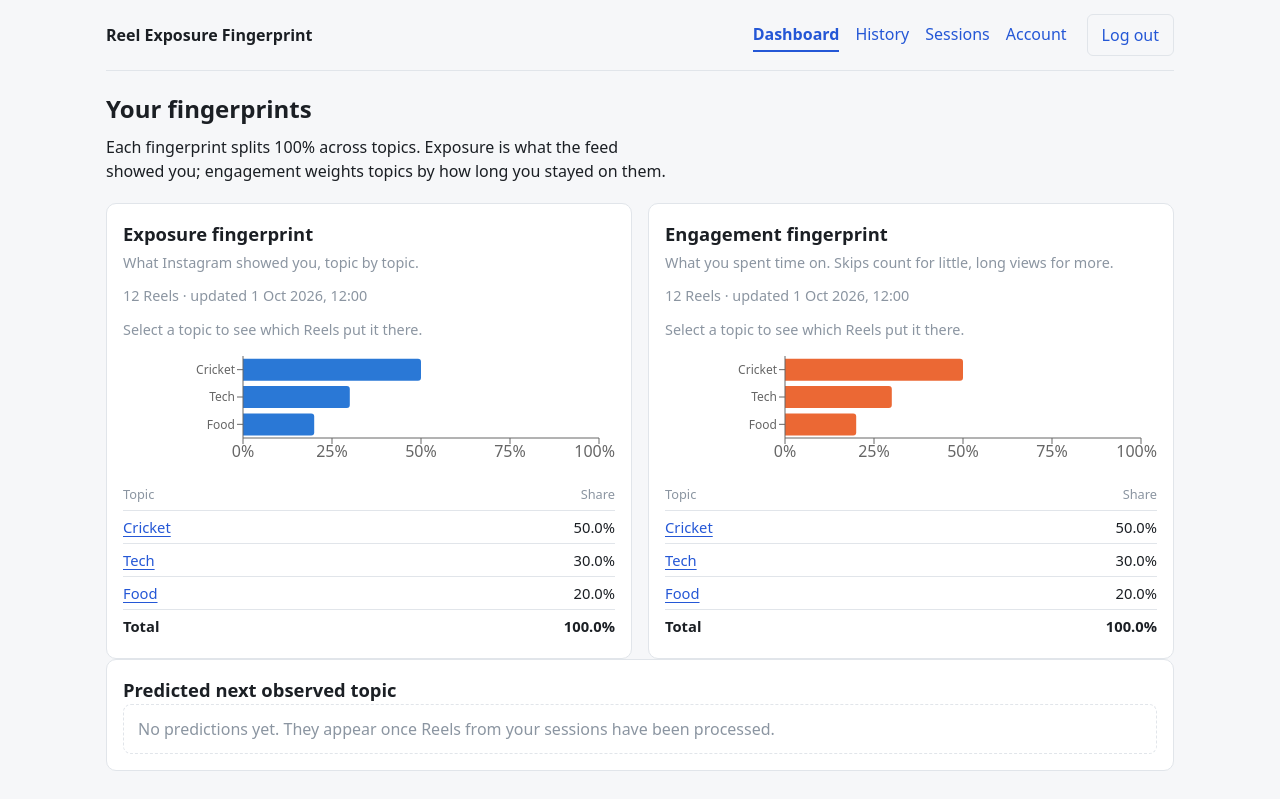
Test: topic evidence › pages with Next and Previous
Click the button with aria-label "Why Cricket?".
click(147, 527)  # box x1=123 y1=516 x2=171 y2=538
(page scrolled)
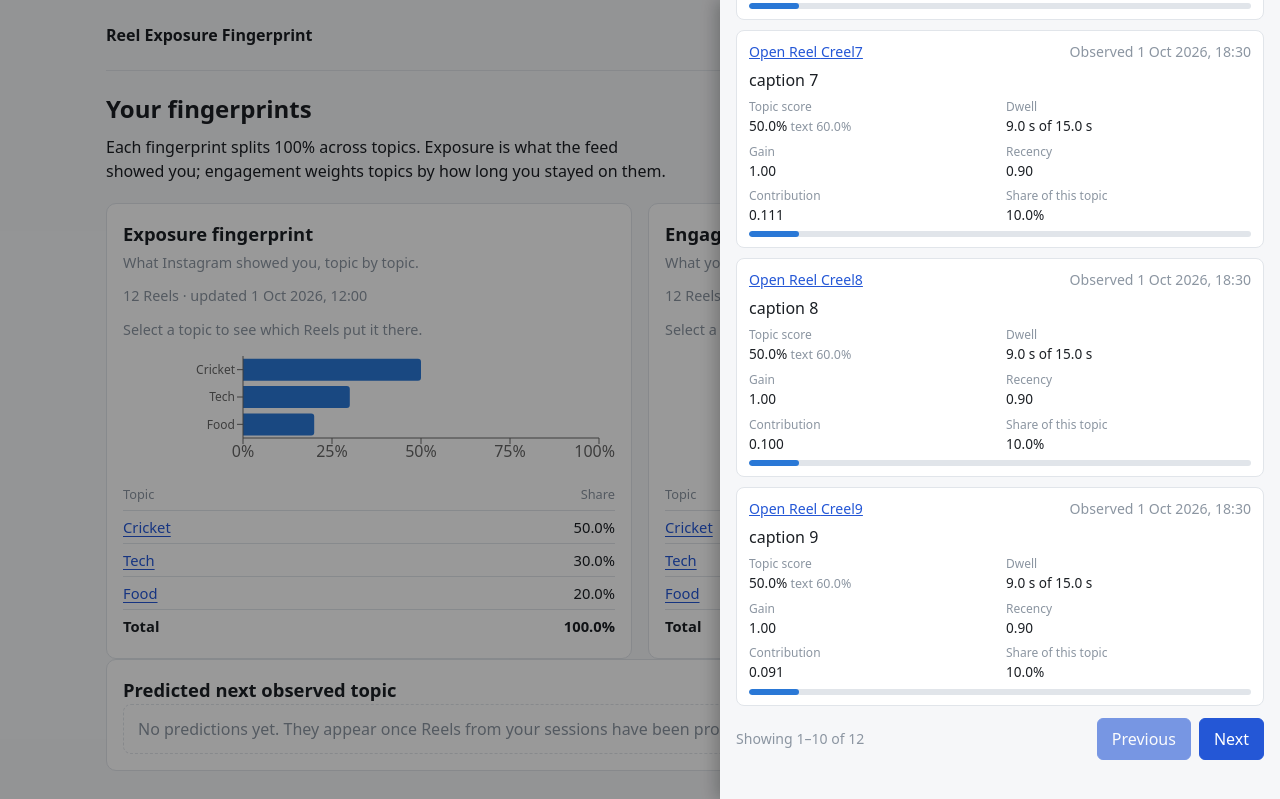
Expected: the text with test id "range" reads "Showing 1–10 of 12", x1=736 y1=729 x2=864 y2=748
Click the button "Next".
click(1231, 739)  # box x1=1199 y1=718 x2=1264 y2=760
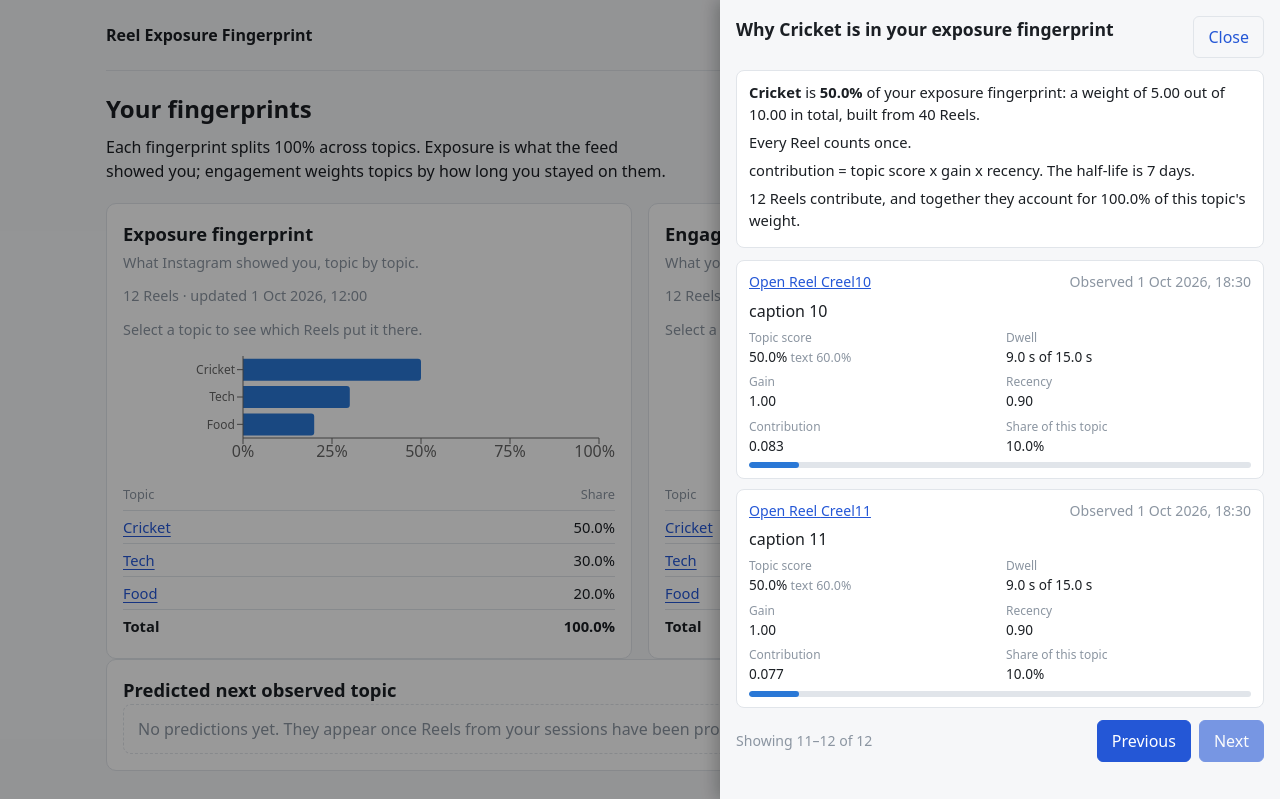
Expected: the text with test id "range" reads "Showing 11–12 of 12", x1=736 y1=731 x2=872 y2=750
Expected: the button "Next" is disabled, x1=1199 y1=720 x2=1264 y2=762
Click the button "Previous".
click(1144, 741)  # box x1=1097 y1=720 x2=1191 y2=762
(page scrolled)
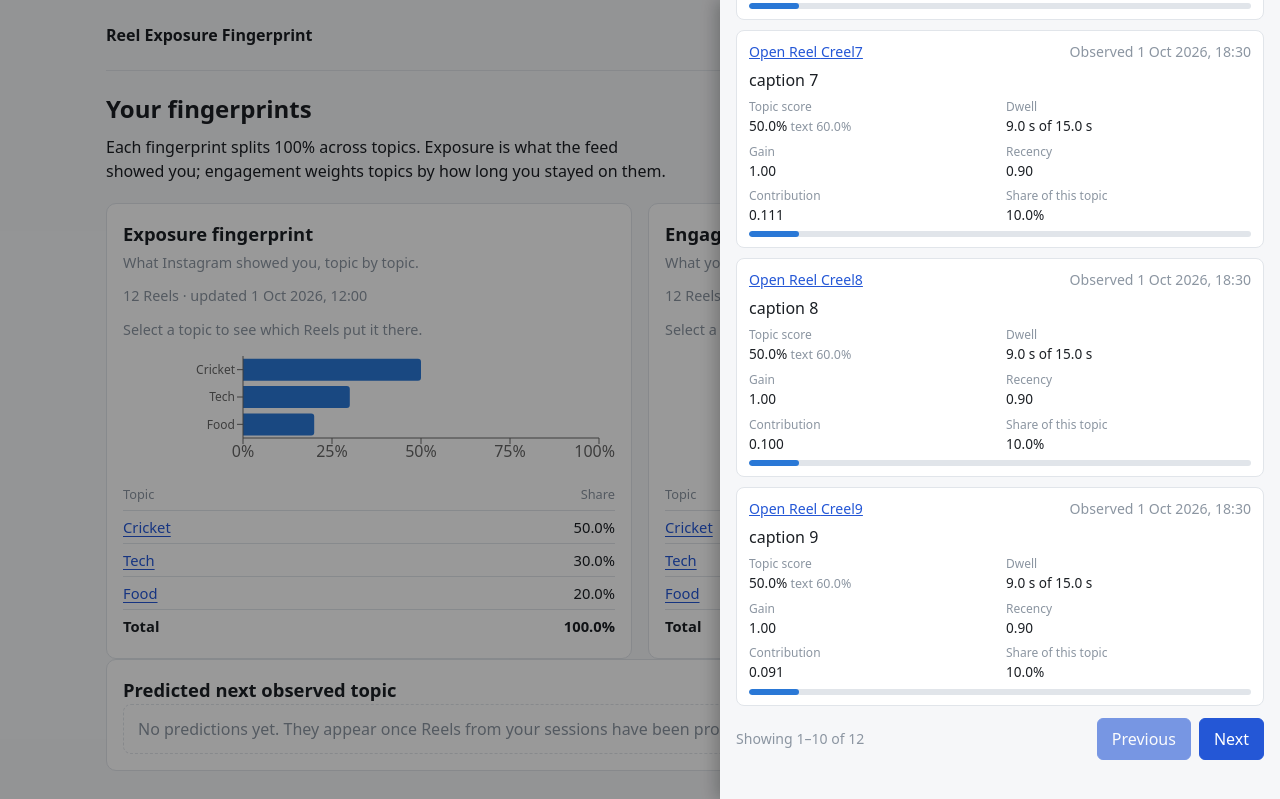
Expected: the text with test id "range" reads "Showing 1–10 of 12", x1=736 y1=729 x2=864 y2=748
